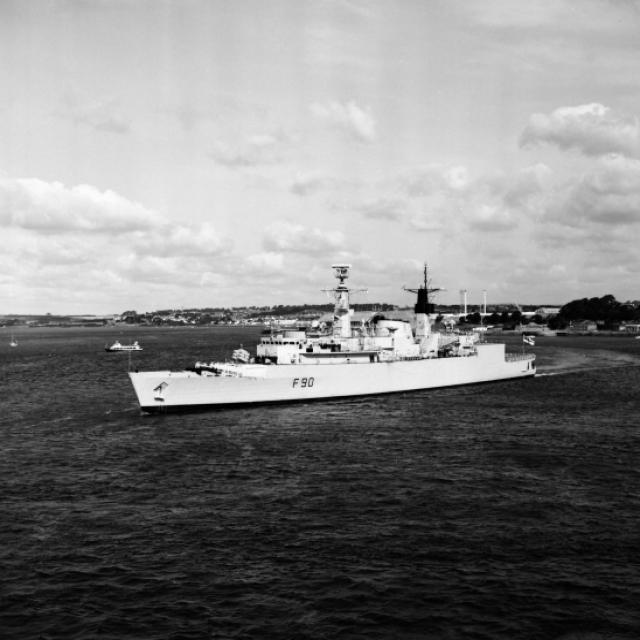Fragata: (125, 242, 541, 417)
